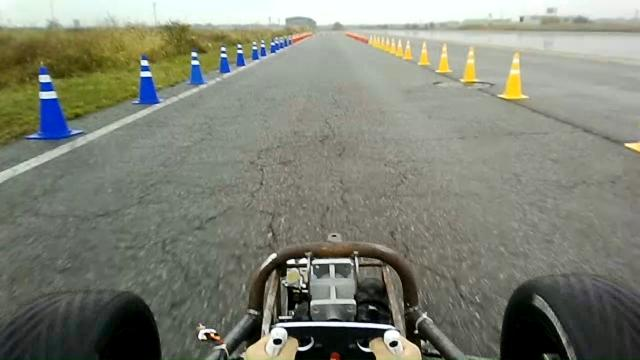blue cone: (24, 64, 84, 140), (131, 54, 163, 105), (186, 48, 207, 85), (218, 44, 231, 73), (235, 42, 246, 66), (250, 40, 260, 61)
yellow cone: (497, 51, 529, 100), (459, 46, 478, 83), (434, 42, 452, 74), (418, 40, 430, 66), (403, 40, 413, 60), (624, 140, 640, 152)
